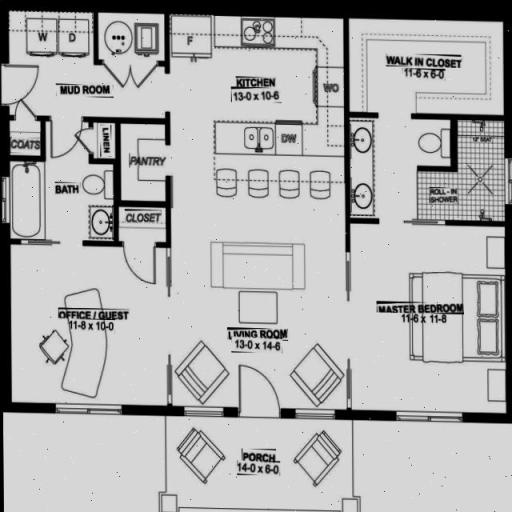Room: (28, 13, 171, 411)
bathroom: (359, 108, 505, 216)
bedroom: (354, 222, 505, 416)
closet: (356, 30, 499, 107)
hall: (176, 195, 348, 411)
kitchen: (175, 23, 350, 189)
porch: (163, 419, 350, 512)
